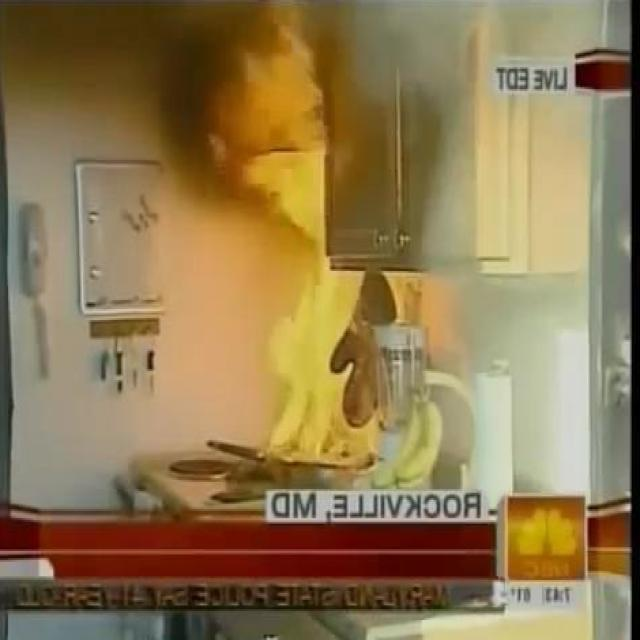fire: (353, 0, 628, 325)
smoke: (236, 0, 405, 465)
